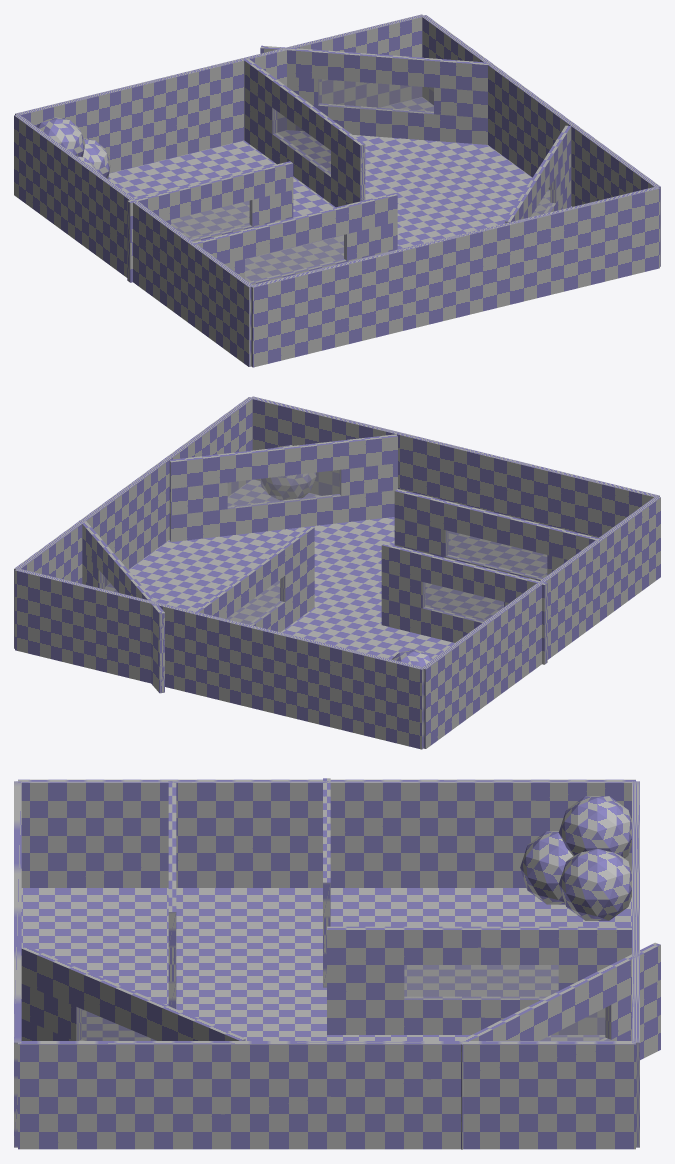
File: TrasparancyTestJoined.obj
The picture shows the model from 3 angles, top to bottom: view 1: azimuth 30°, elevation 25°; view 2: azimuth 150°, elevation 25°; view 3: azimuth 270°, elevation 25°; orthographic projection. The views are drawn at different scales.
Parts seen in each view (by area): view 1: Icosphere.001, Cube.027_Cube.029; view 2: Icosphere.001, Cube.027_Cube.029; view 3: Icosphere.001, Cube.027_Cube.029.
Part boxes in pixels (x1,y1,x2,y2): Icosphere.001: [14, 14, 660, 367]; Cube.027_Cube.029: [171, 79, 555, 283]; Icosphere.001: [14, 396, 660, 749]; Cube.027_Cube.029: [99, 469, 547, 625]; Icosphere.001: [14, 778, 660, 1149]; Cube.027_Cube.029: [76, 965, 610, 1040].
Size of the model in its own units: 16.33 by 3 by 16.75.
Materials: 2 (1 with a texture image).
